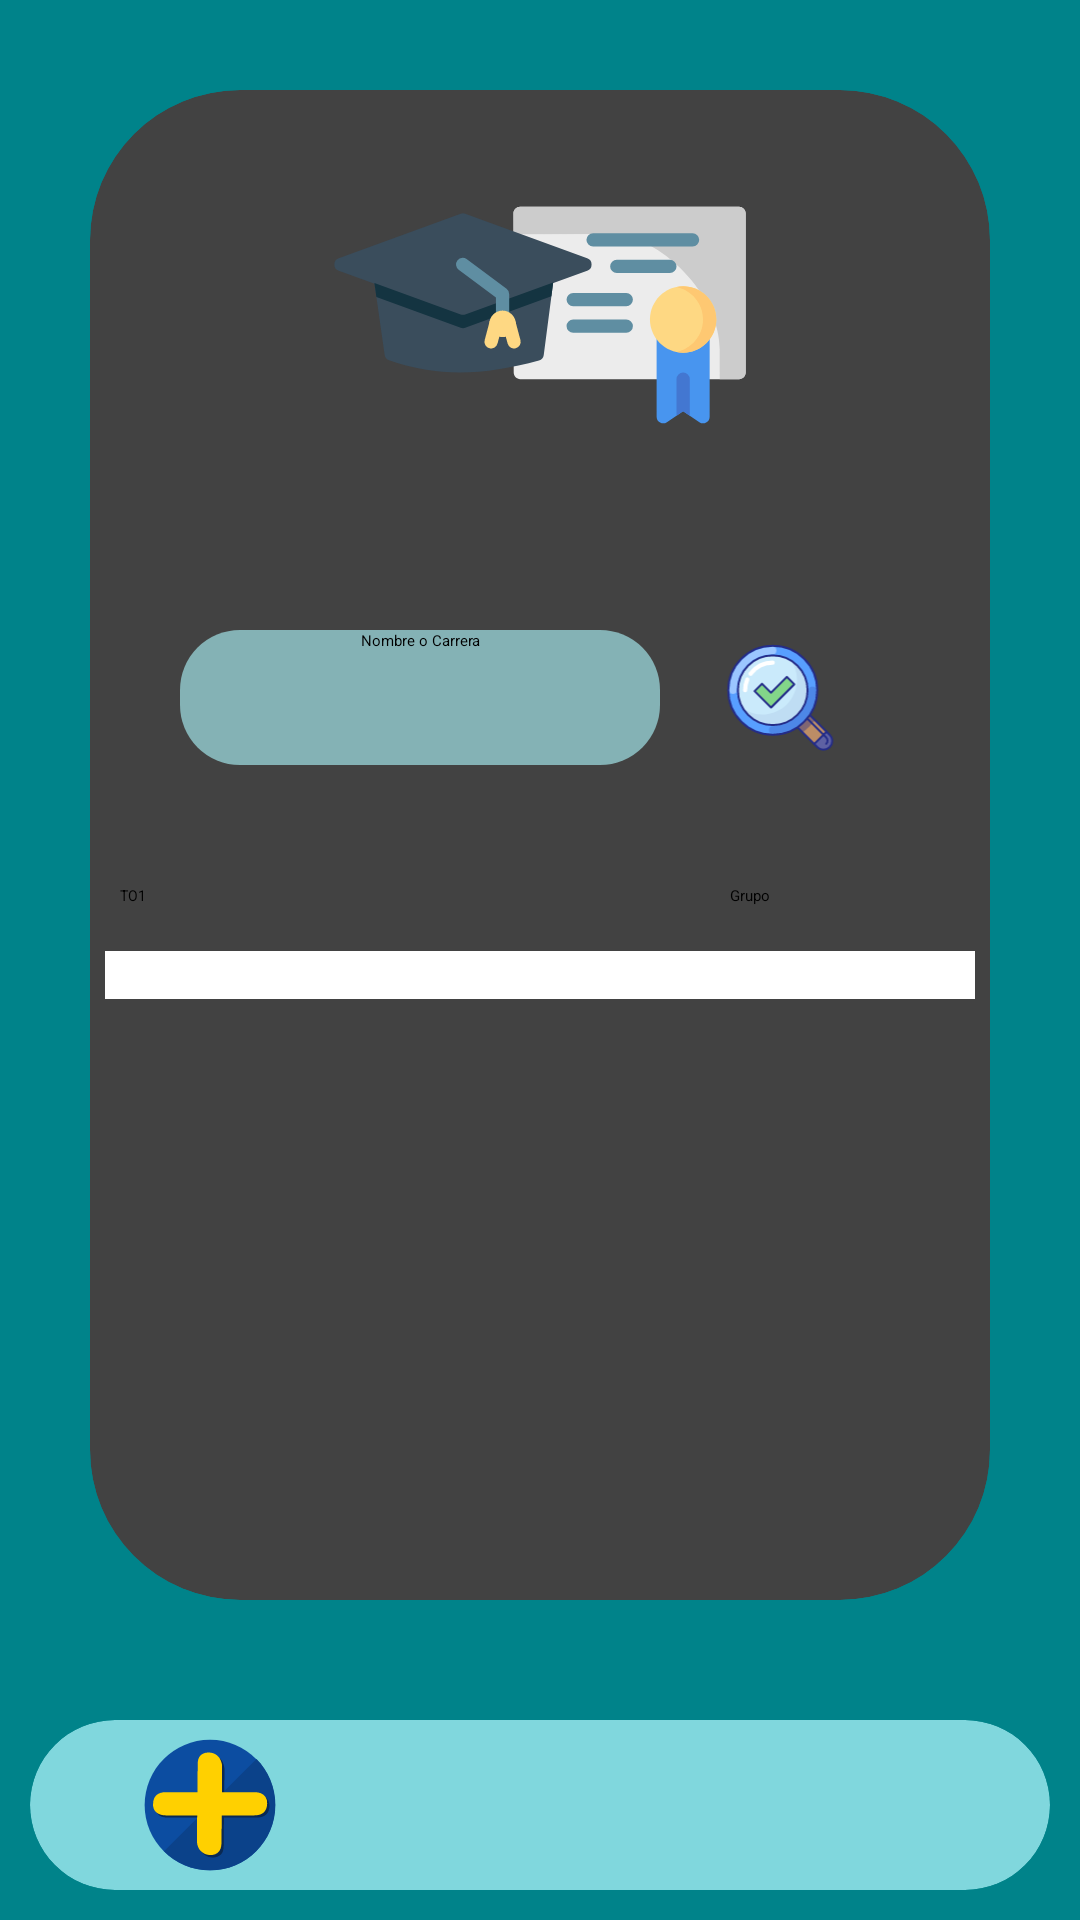

Where to tap for icons on this 1080*1920 app screen, as (x=x, y=y):
lupa: (x=780, y=698)
mas: (x=210, y=1805)
